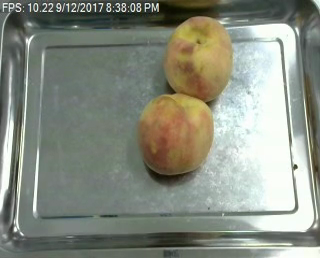Peach: (137, 92, 214, 176), (163, 15, 234, 99)
